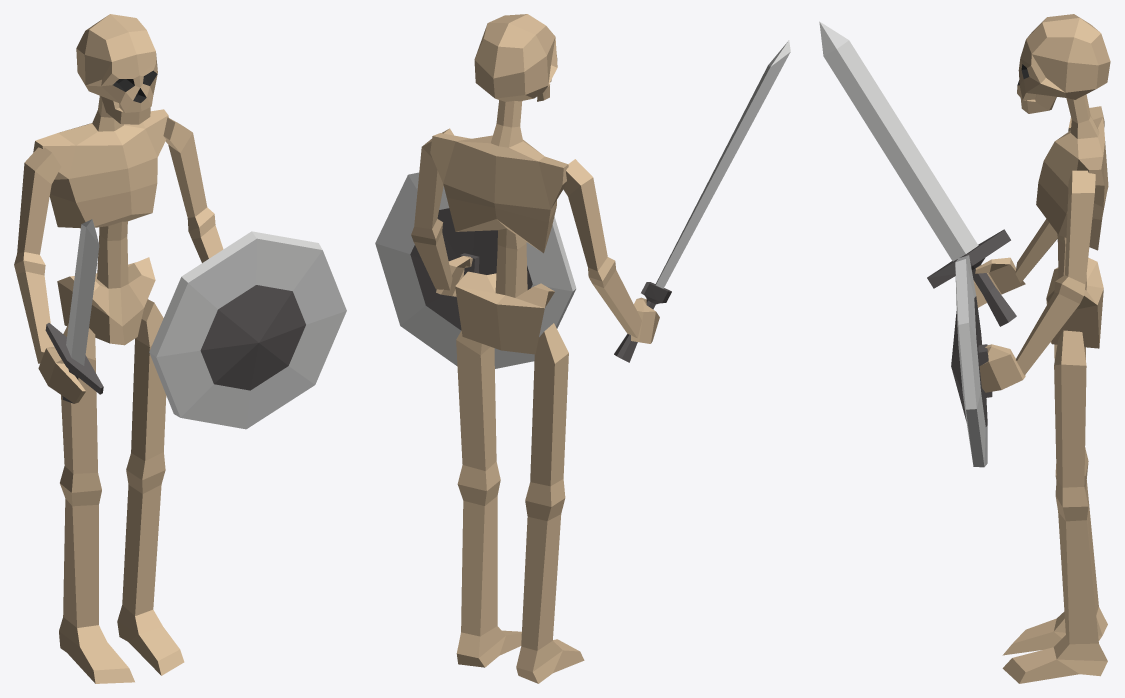
Rendered from skeleton-soldier.glb.
The picture shows the model from 3 angles, left to right: view 1: azimuth 30°, elevation 25°; view 2: azimuth 150°, elevation 25°; view 3: azimuth 270°, elevation 25°; orthographic projection.
Parts seen in each view (by area): view 1: skeleton-soldier; view 2: skeleton-soldier; view 3: skeleton-soldier.
Boxes of the visible parts, box(x1,y1,x2,y2) form: skeleton-soldier: box(14, 14, 346, 683); skeleton-soldier: box(375, 14, 790, 683); skeleton-soldier: box(819, 14, 1110, 683).
Bounding box in the file's own units: 0.9986 × 1.83 × 0.7486.
Materials: 1 (1 with a texture image).
